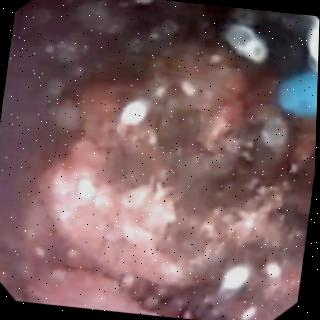fiber: (280, 72, 318, 112)
stone: (40, 45, 317, 320), (29, 273, 155, 312)
